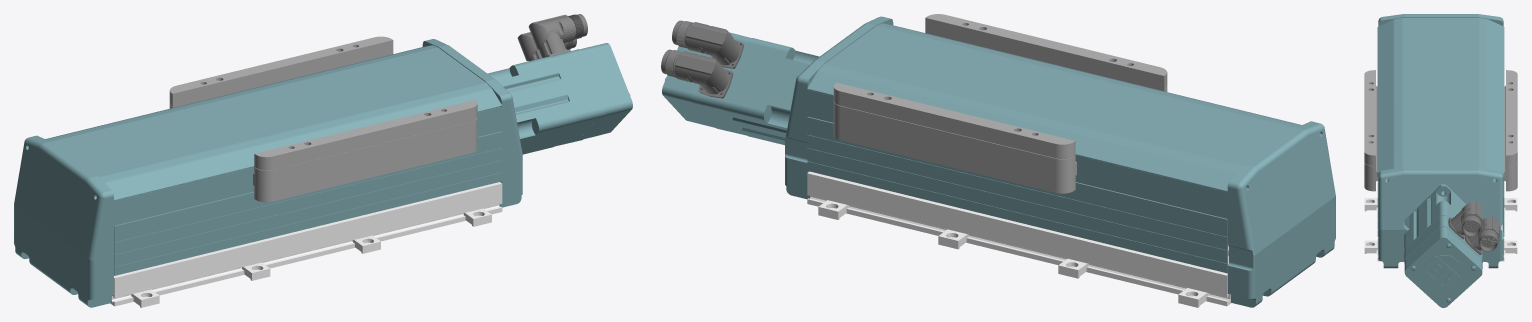
The model's file is LinearStage_fbxModel.fbx.
The picture shows the model from 3 angles, left to right: view 1: azimuth 30°, elevation 25°; view 2: azimuth 150°, elevation 25°; view 3: azimuth 270°, elevation 25°; orthographic projection. The views are drawn at different scales.
Parts seen in each view (by area): view 1: TopHousing, Slide, ButCap, Base, InputFeeder, HeadCap, SignalConnector, PowerConnector; view 2: TopHousing, Slide, ButCap, Base, InputFeeder, HeadCap, PowerConnector, SignalConnector; view 3: TopHousing, HeadCap, InputFeeder, Slide, SignalConnector, PowerConnector, ButCap, PART_6_150_B, PART_6_150_B_1, PART_6_150_B_2, PART_6_150_B_3.
Part boxes in pixels (box(x1,y1,x2,y2)): TopHousing: box(45, 45, 501, 275); Slide: box(169, 36, 477, 202); ButCap: box(14, 135, 113, 307); Base: box(110, 182, 502, 306); InputFeeder: box(487, 43, 632, 154); HeadCap: box(422, 39, 522, 207); SignalConnector: box(528, 14, 587, 57); PowerConnector: box(517, 32, 576, 61); TopHousing: box(807, 23, 1301, 273); Slide: box(833, 14, 1167, 193); ButCap: box(1227, 121, 1335, 307); Base: box(807, 171, 1231, 306); InputFeeder: box(662, 32, 819, 145); HeadCap: box(785, 16, 893, 199); PowerConnector: box(661, 49, 733, 98); SignalConnector: box(672, 20, 744, 68); TopHousing: box(1377, 18, 1504, 236); HeadCap: box(1378, 167, 1503, 268); InputFeeder: box(1404, 184, 1482, 307); Slide: box(1364, 70, 1517, 191); SignalConnector: box(1448, 201, 1482, 239); PowerConnector: box(1465, 216, 1499, 254); ButCap: box(1378, 14, 1503, 26); PART_6_150_B: box(1504, 240, 1517, 253); PART_6_150_B_1: box(1364, 240, 1377, 253); PART_6_150_B_2: box(1504, 198, 1517, 211); PART_6_150_B_3: box(1364, 198, 1377, 211).
Bounding box in the file's own units: 60.76 × 12.55 × 18.15.
